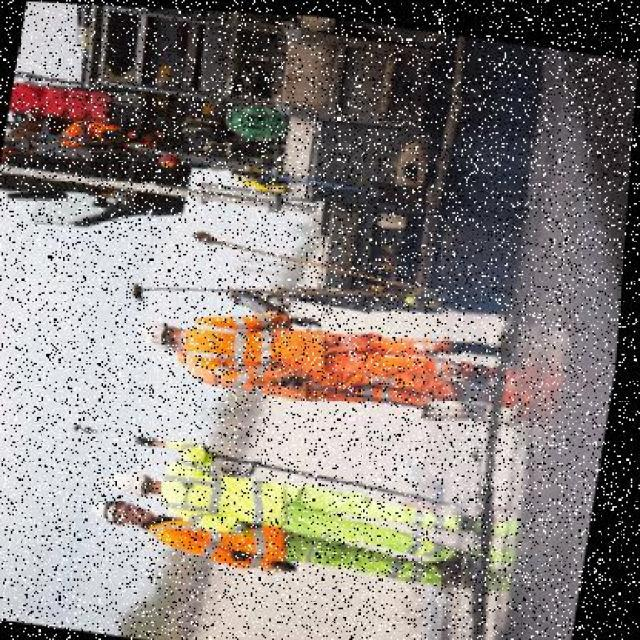helmet: (92, 492, 150, 530), (131, 312, 185, 350), (114, 465, 160, 497)
vest: (179, 303, 333, 377), (149, 498, 307, 570), (162, 454, 304, 530)
